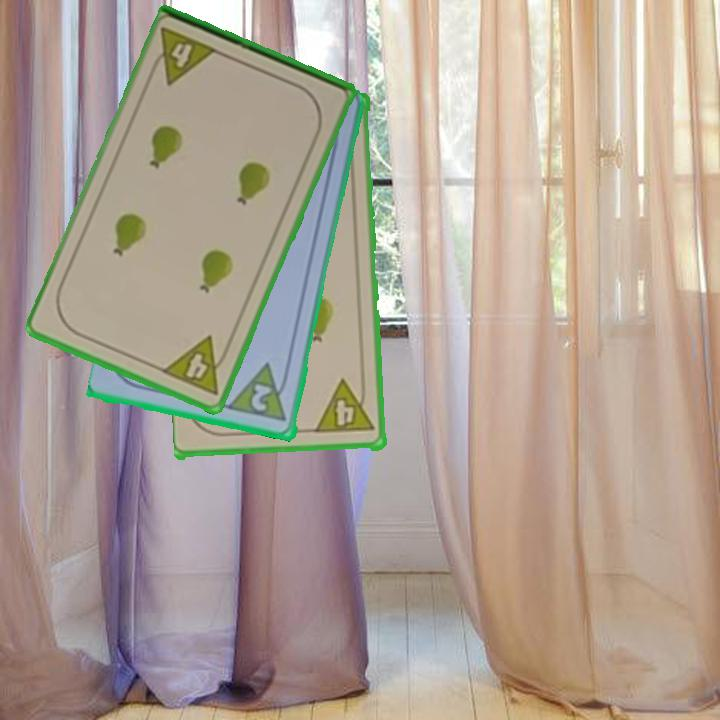2p: (247, 380, 276, 415)
4p: (158, 332, 234, 398), (145, 23, 221, 88), (313, 377, 378, 437)
